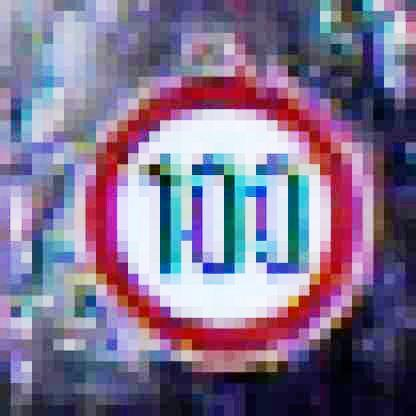Speed Limit -100-: (84, 69, 380, 370)
